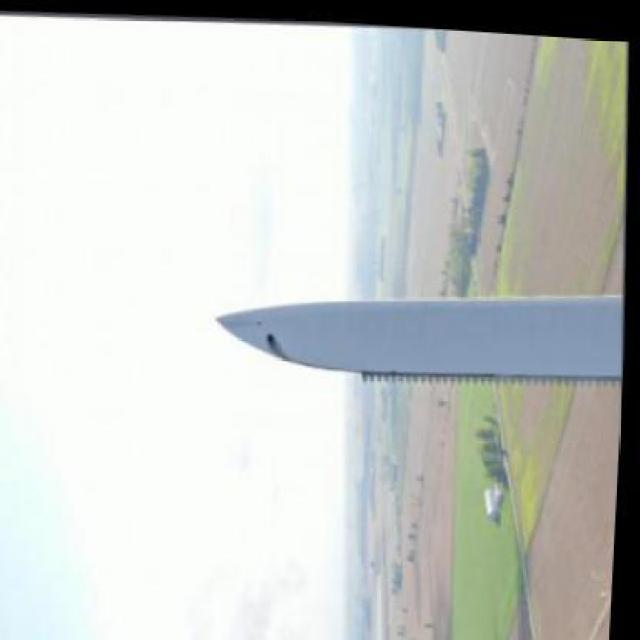Burn Mark: (268, 328, 295, 362)
